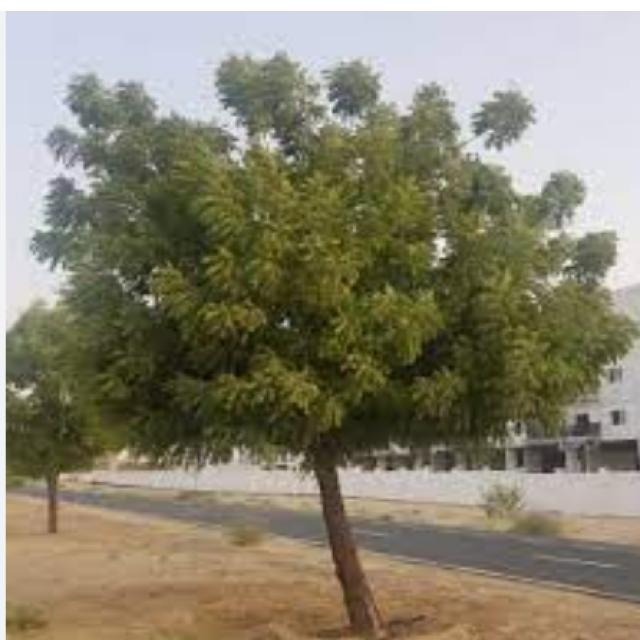Neem-Tree: (83, 60, 590, 595)
